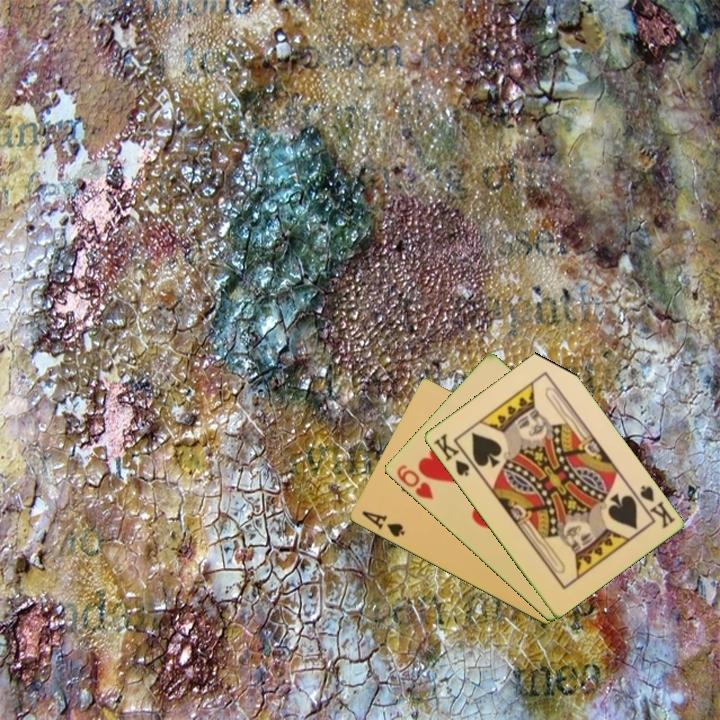6h: (393, 461, 436, 503)
As: (358, 507, 407, 540)
Ks: (629, 482, 678, 531), (430, 430, 477, 479)
